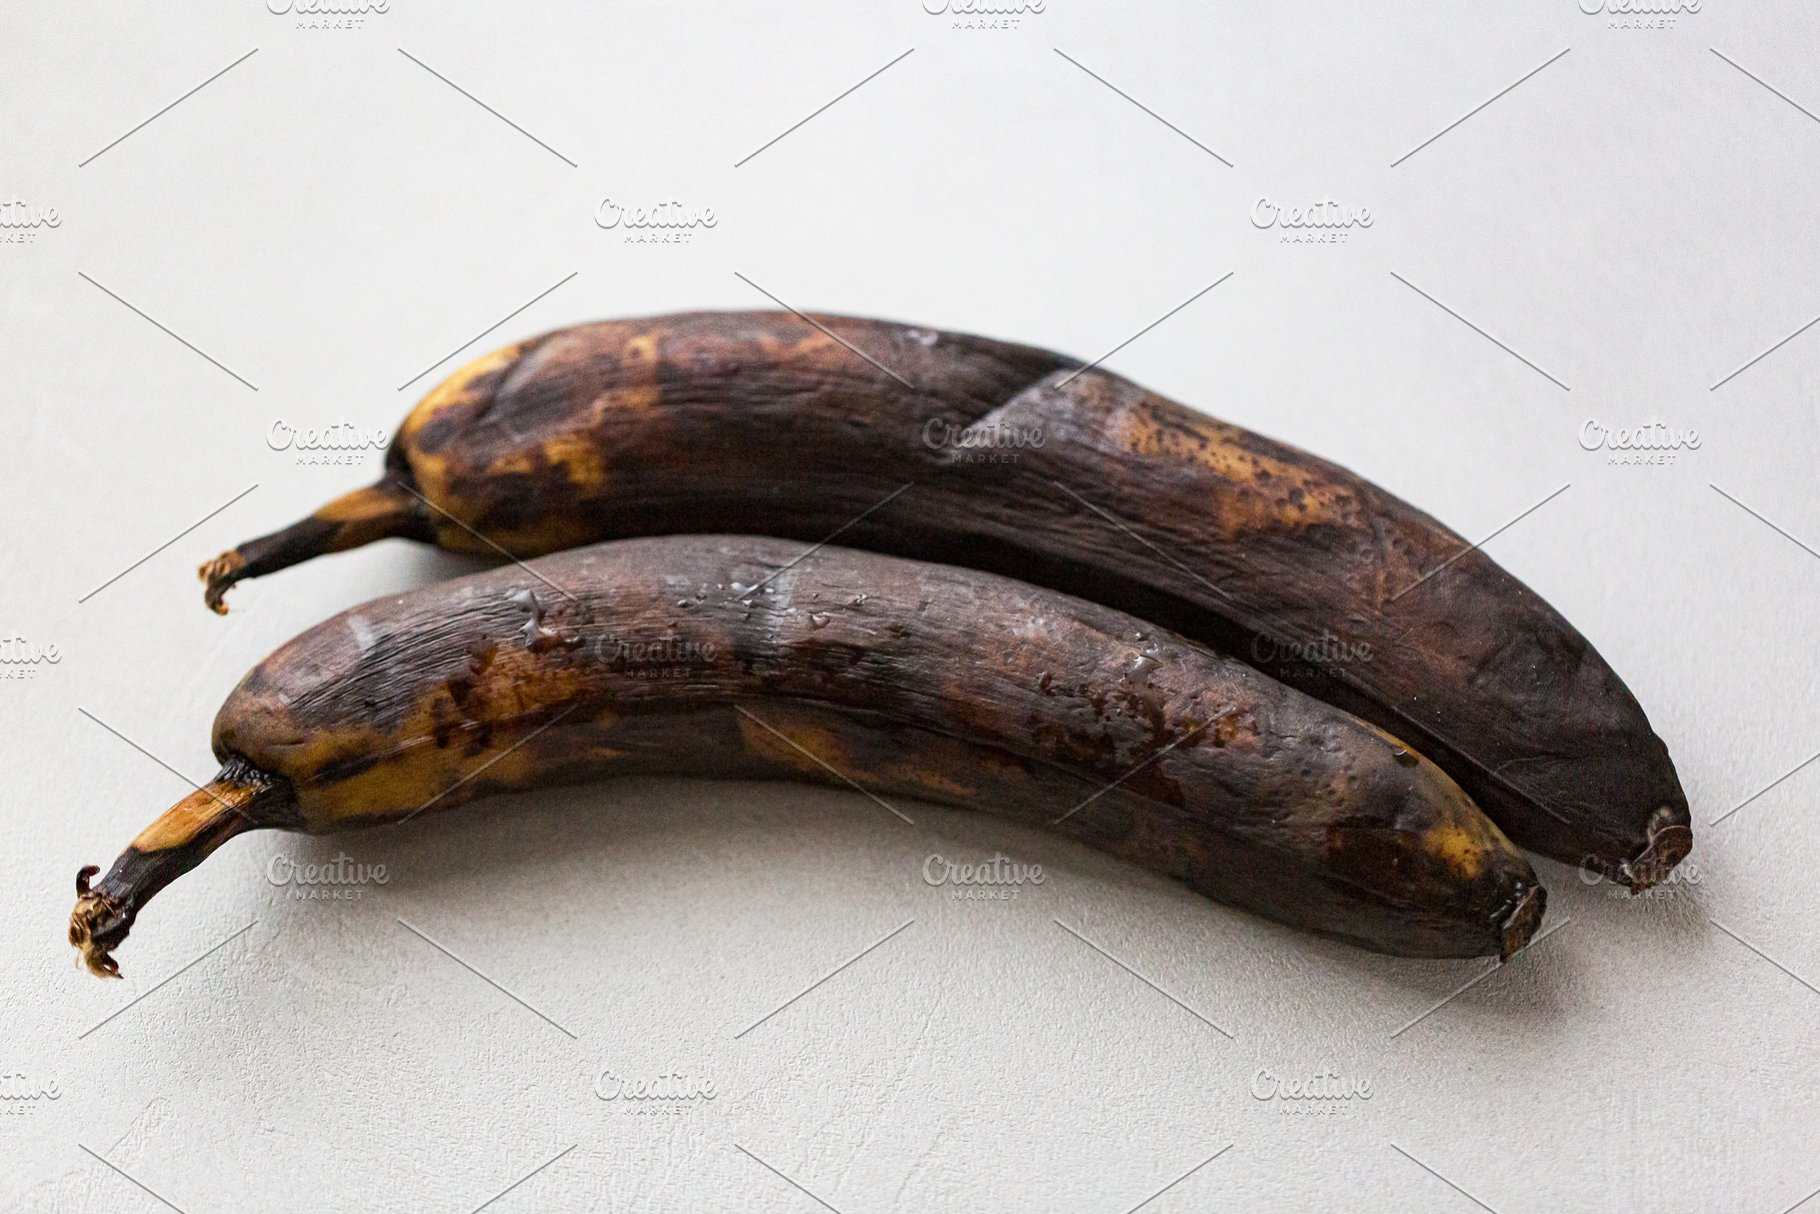damaged_banana: (240, 572, 1502, 995), (446, 308, 1606, 732)
